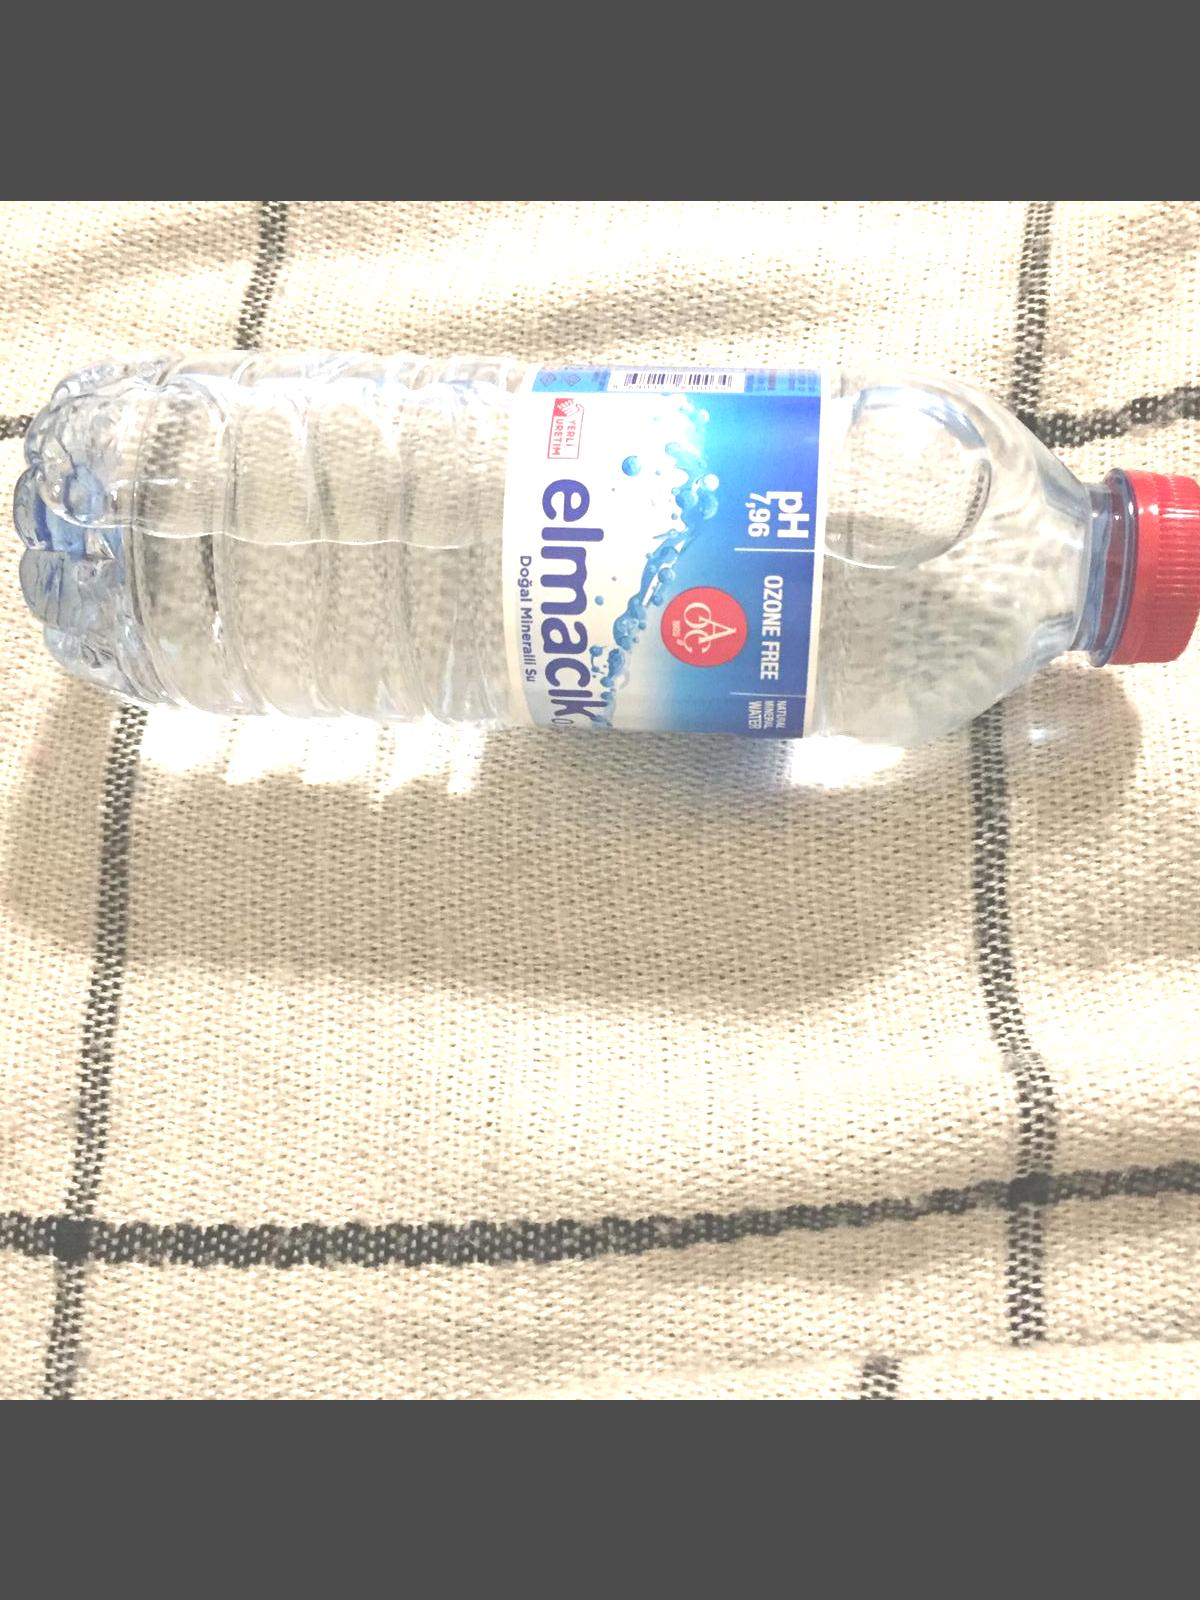bottle: (16, 353, 1200, 722)
